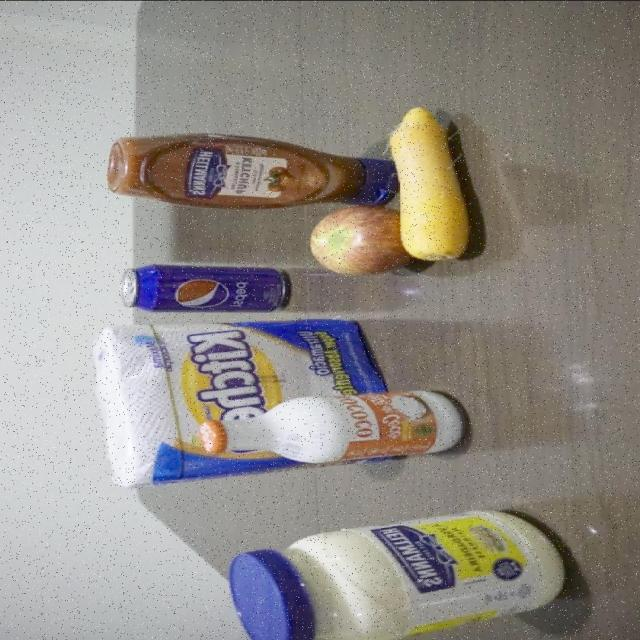Apple: (309, 206, 420, 276)
Carrot: (388, 104, 483, 262)
CoconutMilk: (195, 388, 472, 465)
Ketchup: (106, 129, 396, 212)
Mayonnaise: (227, 508, 569, 640)
Napkin: (85, 318, 404, 490)
SodaCan: (115, 262, 294, 313)
